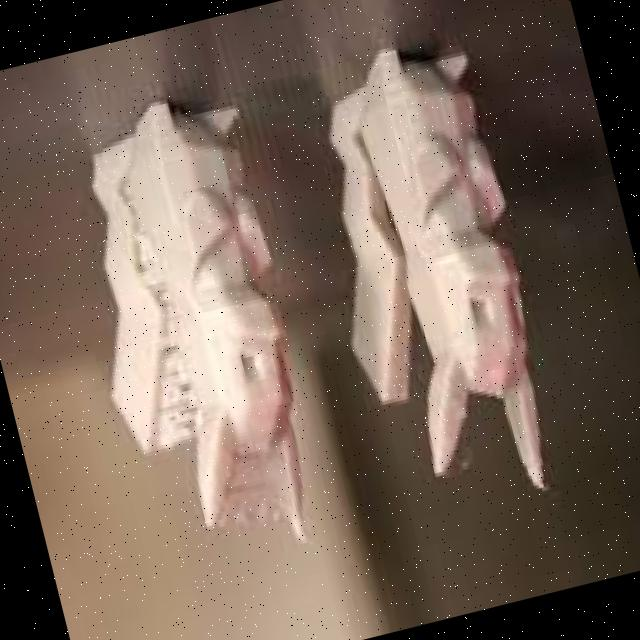stringing: (117, 178, 204, 456), (224, 455, 296, 543)
